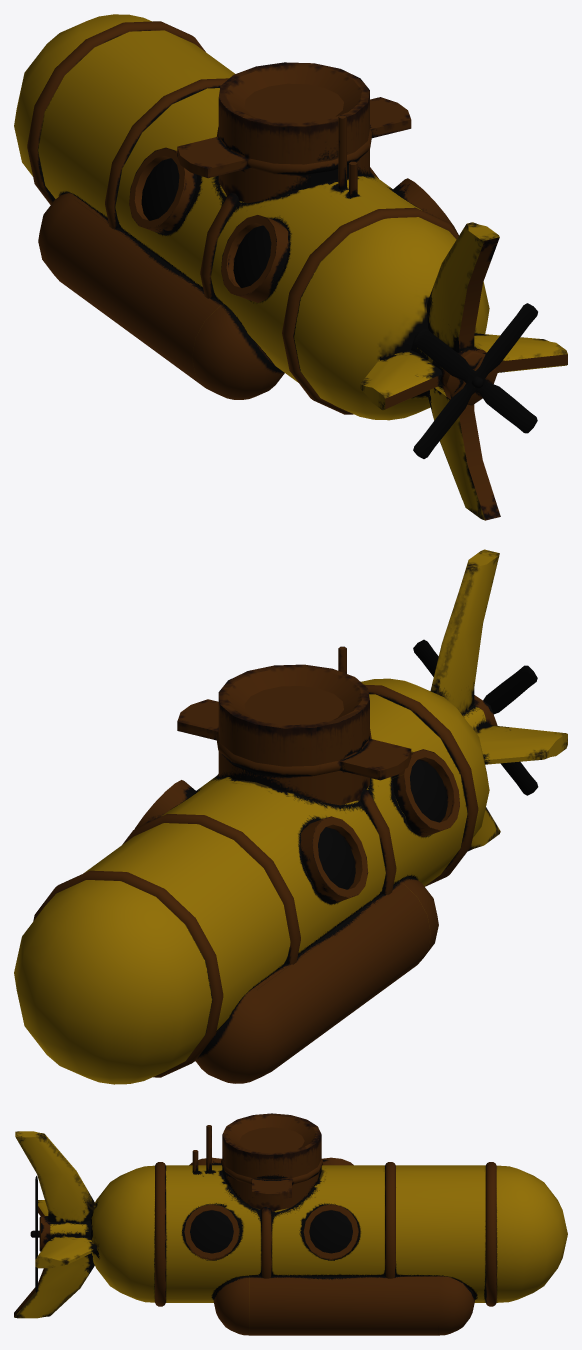
3 renders of one model, top to bottom at view 1: azimuth 30°, elevation 25°; view 2: azimuth 150°, elevation 25°; view 3: azimuth 270°, elevation 25°, orthographic. The views are drawn at different scales.
Visible parts, largest first — view 1: Submarine_LP; view 2: Submarine_LP; view 3: Submarine_LP.
Boxes of the visible parts, x1,y1,x2,y2 form: Submarine_LP: (14,14,567,520); Submarine_LP: (14,549,567,1084); Submarine_LP: (14,1113,567,1335).
Bounding box in the file's own units: 260 × 304 × 805.
1 material, 1 textured.
